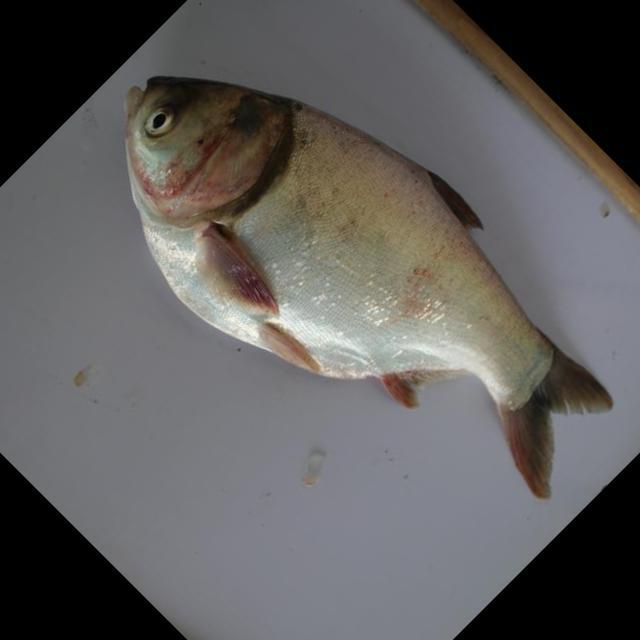SilverCarp: (123, 73, 616, 493)
